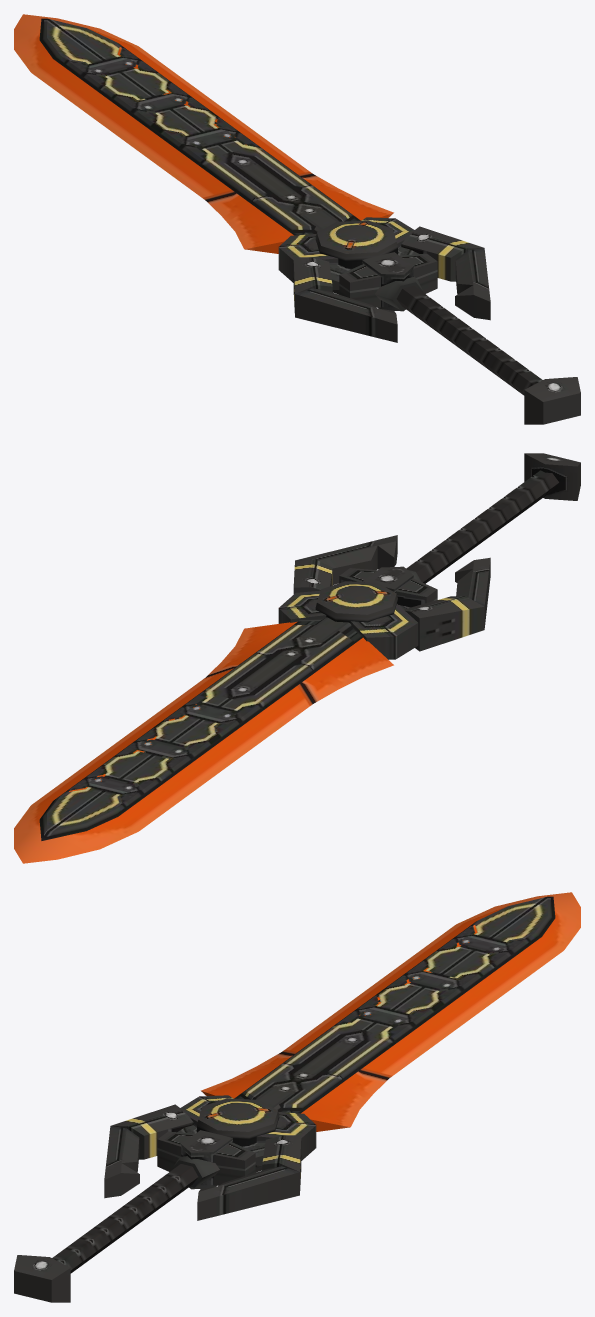
The model's file is sword_l_luna_sword_luna_sword1fire_s.glb.
3 renders of one model, top to bottom at view 1: azimuth 30°, elevation 25°; view 2: azimuth 150°, elevation 25°; view 3: azimuth 330°, elevation 25°, orthographic.
Bounding box in the file's own units: 0.4646 × 0.1348 × 2.29.
1 material, 1 textured.
